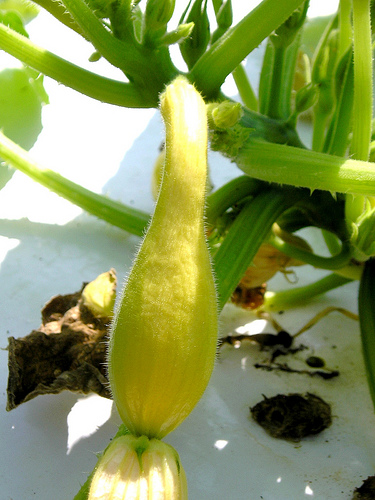cucumber: (103, 75, 222, 440)
